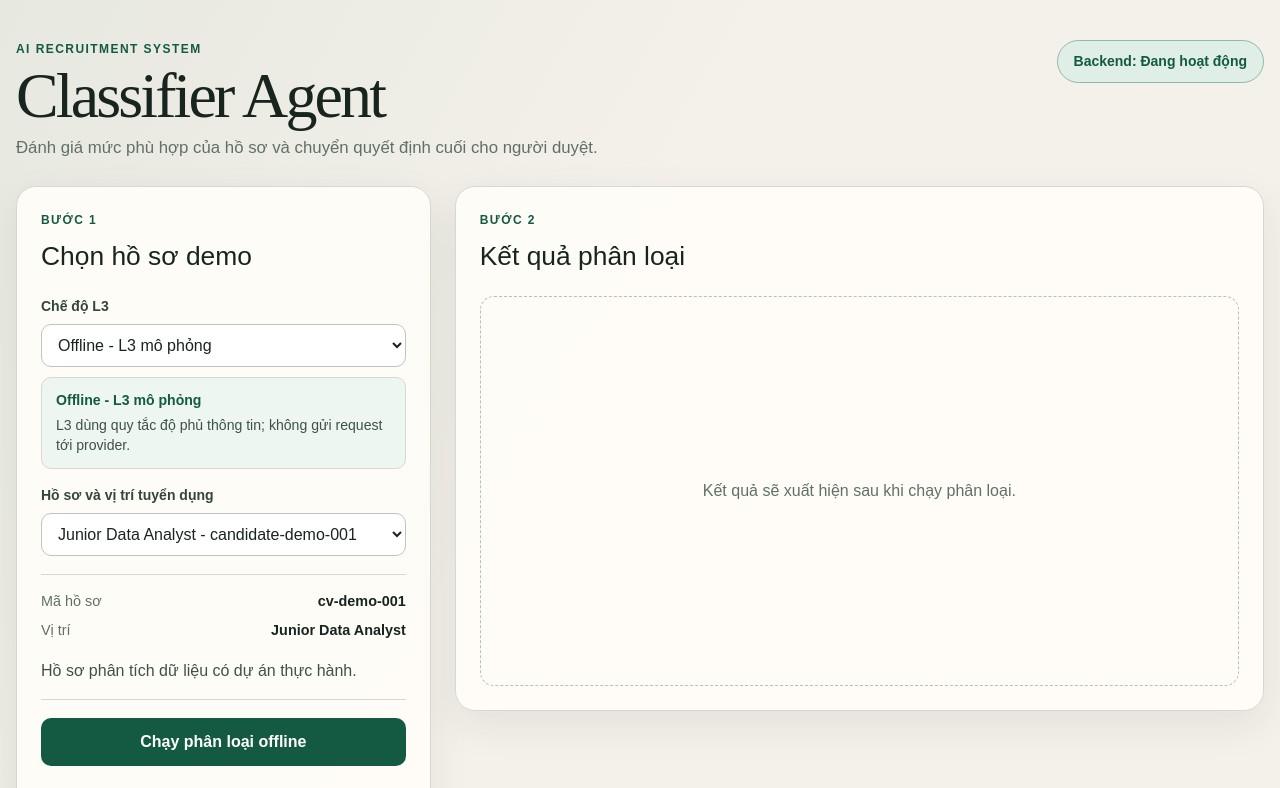
ClassifierDashboard › shows backend errors and leaves the review panel closed
expect the text "Backend: Đang hoạt động" is shown: met, box [1056,40,1264,83]
Click the button "Chạy phân loại offline" at (223, 742), box [41,718,406,766]
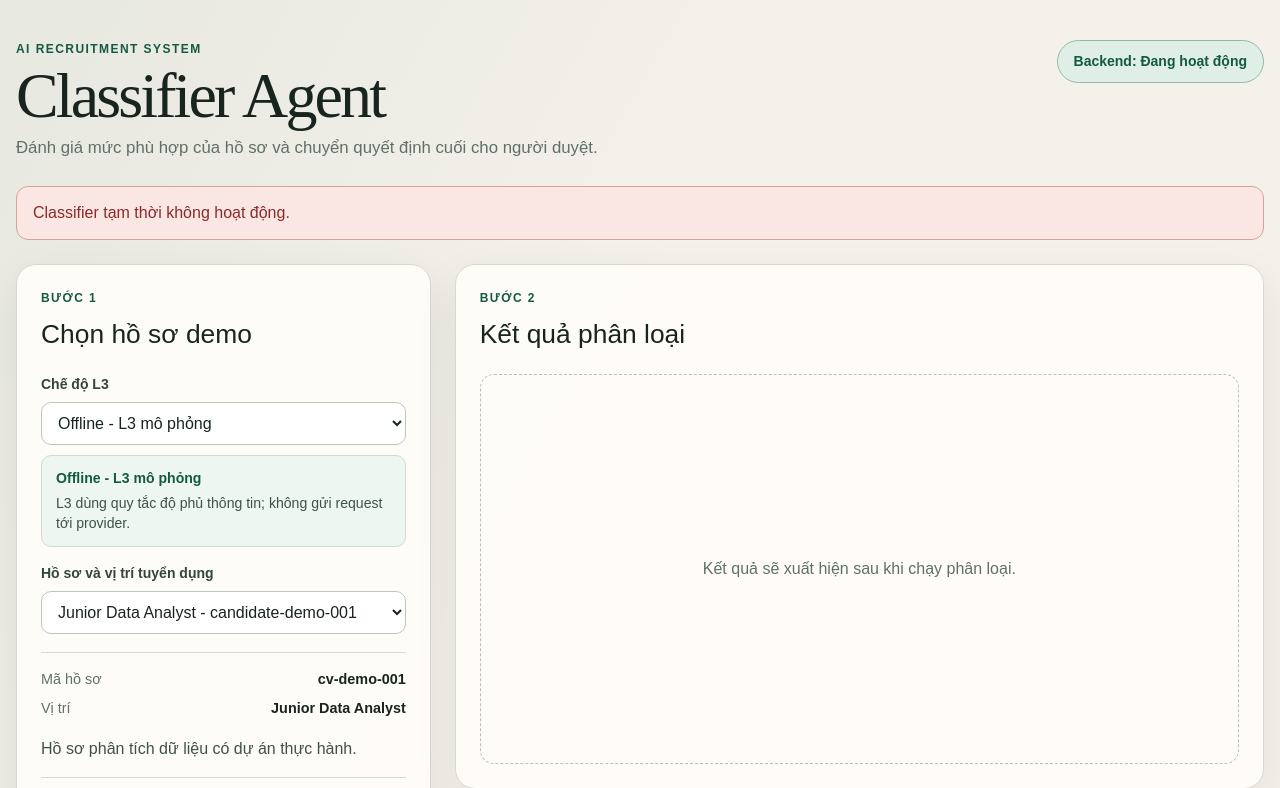
expect the message "Classifier tạm thời không hoạt động." is shown: met, box [16,186,1264,240]
